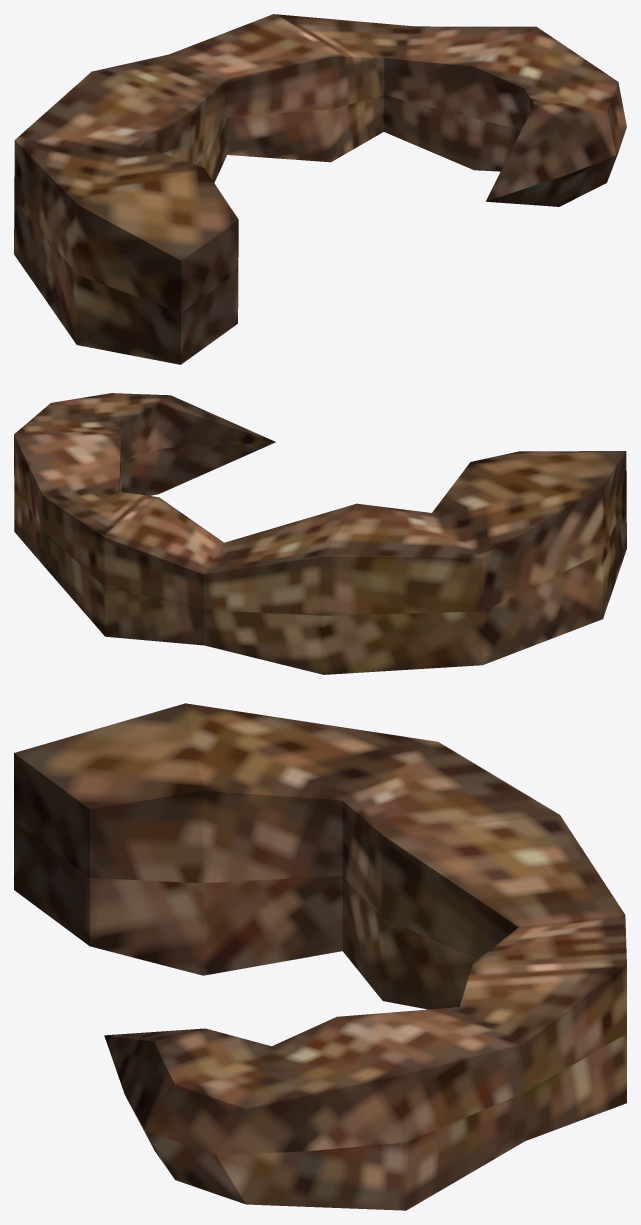
Rendered from sutiramustinger.obj.
The picture shows the model from 3 angles, top to bottom: view 1: azimuth 30°, elevation 25°; view 2: azimuth 150°, elevation 25°; view 3: azimuth 270°, elevation 25°; orthographic projection. The views are drawn at different scales.
Visible parts, largest first — view 1: Tail; view 2: Tail; view 3: Tail.
Part boxes in pixels (<box>): Tail: <box>14,14,626,364</box>; Tail: <box>14,393,626,674</box>; Tail: <box>14,703,626,1210</box>.
Bounding box in the file's own units: 0.7478 × 0.1786 × 0.5311.
